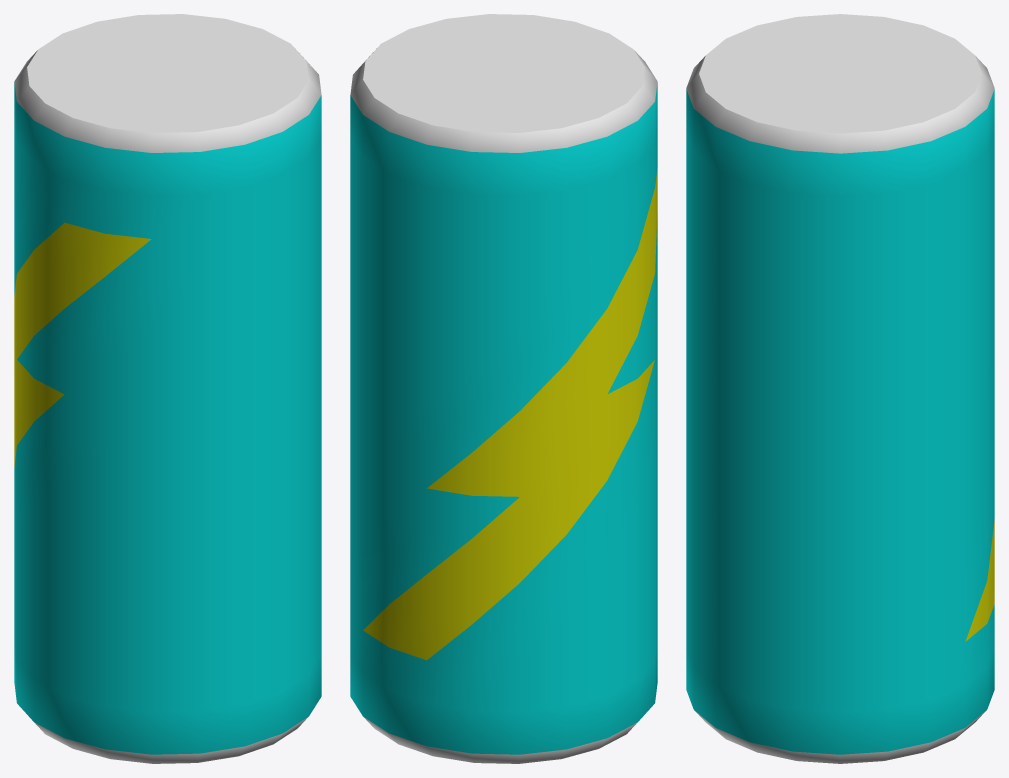
File: Charge.fbx
The picture shows the model from 3 angles, left to right: view 1: azimuth 30°, elevation 25°; view 2: azimuth 150°, elevation 25°; view 3: azimuth 270°, elevation 25°; orthographic projection.
Visible parts, largest first — view 1: pCylinder1; view 2: pCylinder1; view 3: pCylinder1.
Boxes of the visible parts, left/top/right/bottom form: pCylinder1: left=14, top=14, right=321, bottom=763; pCylinder1: left=350, top=14, right=657, bottom=763; pCylinder1: left=686, top=14, right=994, bottom=763.
Bounding box in the file's own units: 1.36 × 3.07 × 1.36.
